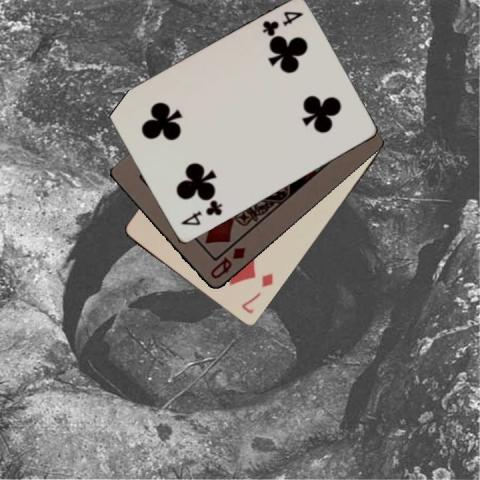4c: (259, 8, 305, 38), (178, 198, 223, 228)
7d: (239, 270, 274, 315)
Qd: (207, 244, 247, 281)
